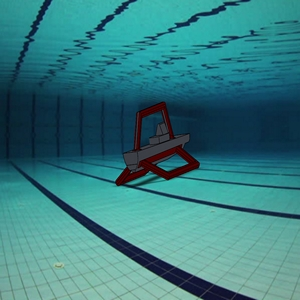submarine: (110, 93, 201, 189)
